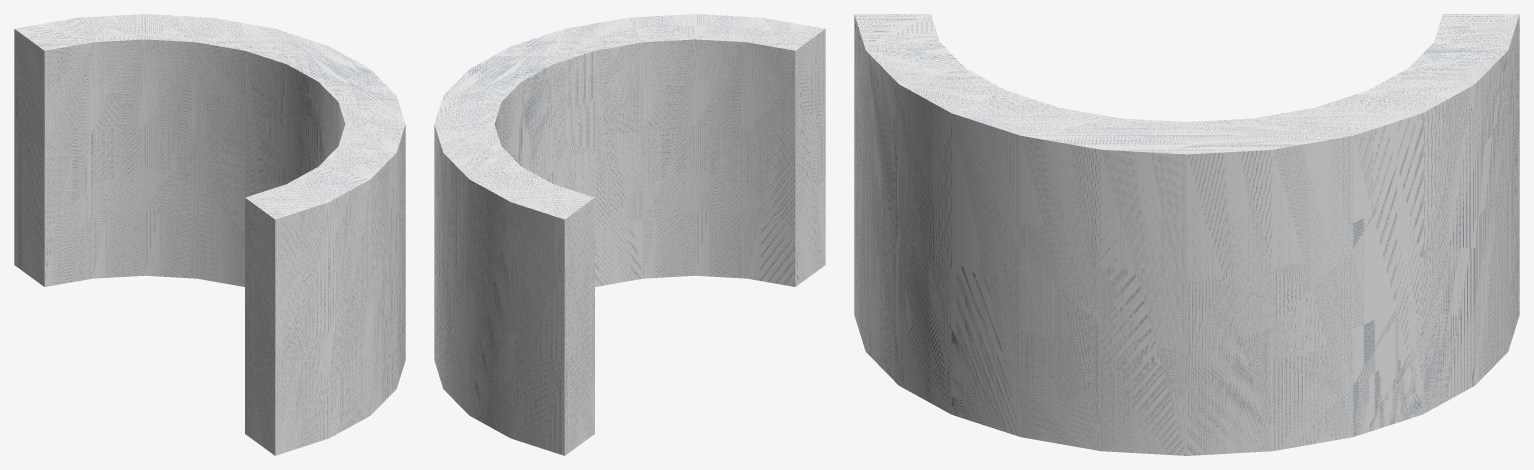
File: HalfTube.fbx
3 views of the same model, side by side, from view 1: azimuth 30°, elevation 25°; view 2: azimuth 150°, elevation 25°; view 3: azimuth 270°, elevation 25° (orthographic). The views are drawn at different scales.
Visible parts, largest first — view 1: Model; view 2: Model; view 3: Model.
Boxes of the visible parts, x1,y1,x2,y2 form: Model: [14, 14, 405, 455]; Model: [434, 14, 825, 455]; Model: [854, 14, 1519, 455].
Size of the model in its own units: 2 by 2 by 4.
